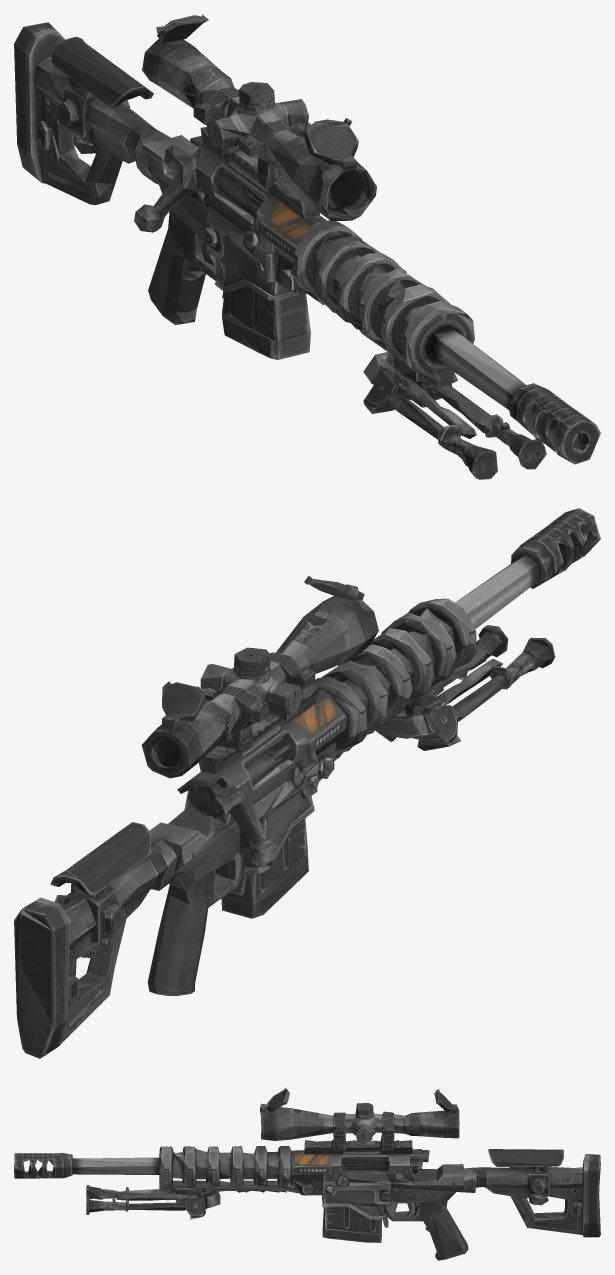
The model's file is marksman.glb.
The picture shows the model from 3 angles, top to bottom: view 1: azimuth 30°, elevation 25°; view 2: azimuth 150°, elevation 25°; view 3: azimuth 270°, elevation 25°; orthographic projection. The views are drawn at different scales.
Visible parts, largest first — view 1: Mesh_0; view 2: Mesh_0; view 3: Mesh_0.
Part boxes in pixels (left/top/right/bottom): Mesh_0: left=14, top=14, right=600, bottom=479; Mesh_0: left=14, top=508, right=600, bottom=1058; Mesh_0: left=14, top=1087, right=600, bottom=1260.
Size of the model in its own units: 0.1411 by 0.3568 by 1.15.
1 material, 1 textured.
